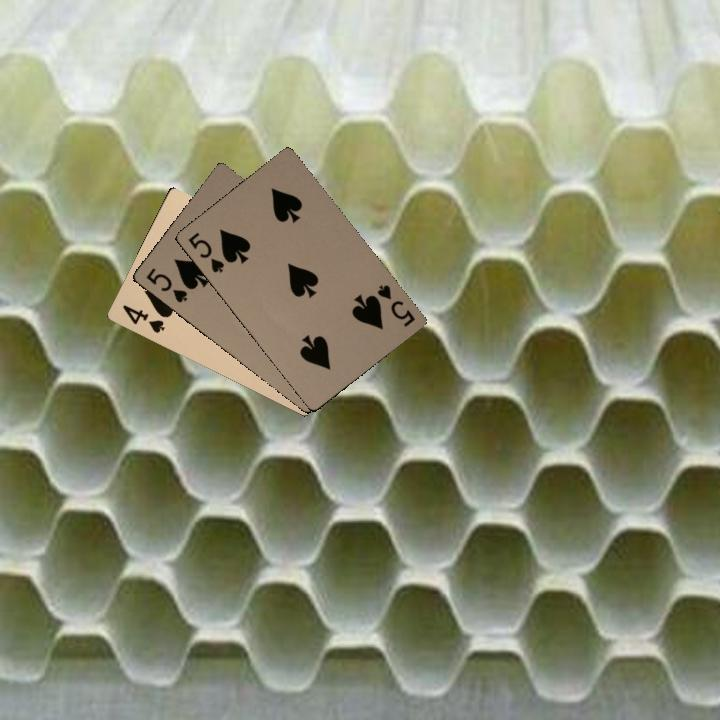4s: (118, 300, 167, 335)
5s: (373, 281, 418, 329), (184, 228, 227, 275), (142, 264, 190, 305)
